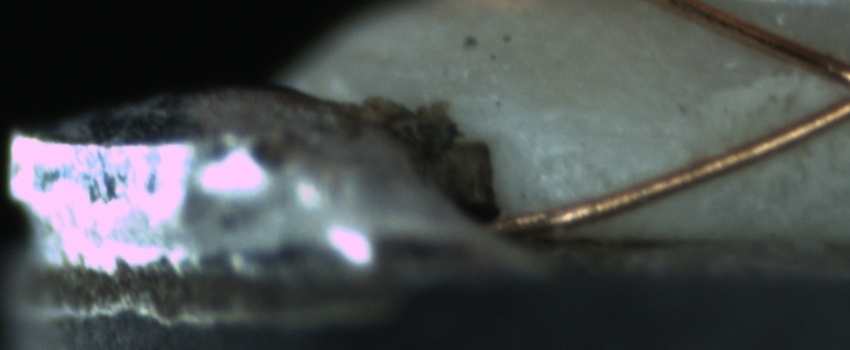CL: (805, 48, 850, 127)
DL: (539, 106, 686, 167)
